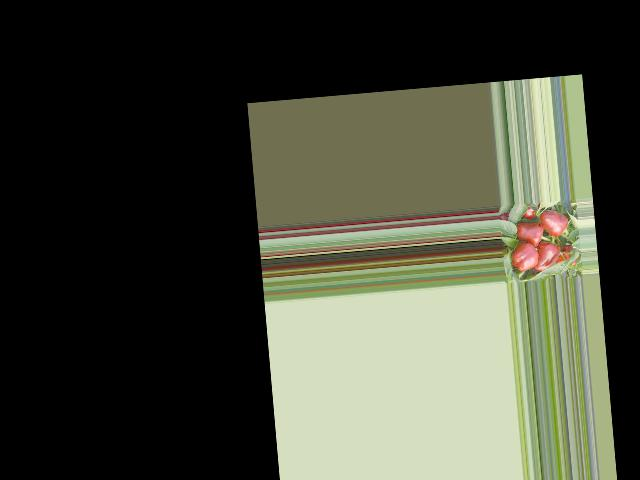bell_pepper: (510, 235, 540, 274)
